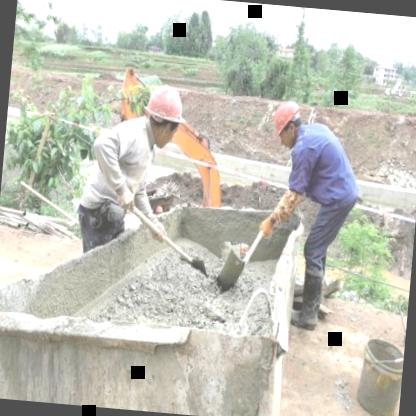helmet: (140, 80, 190, 151), (270, 100, 304, 146)
